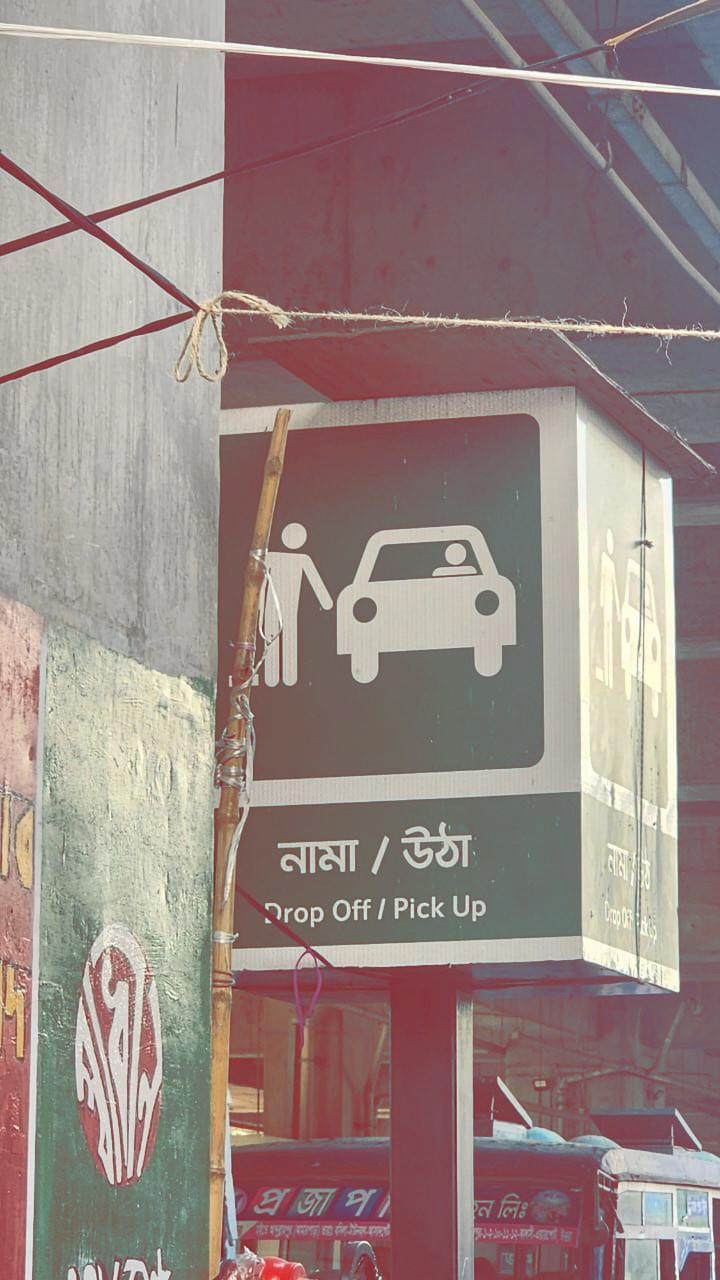Metro Dorp Up Pick up: (196, 378, 684, 988)
